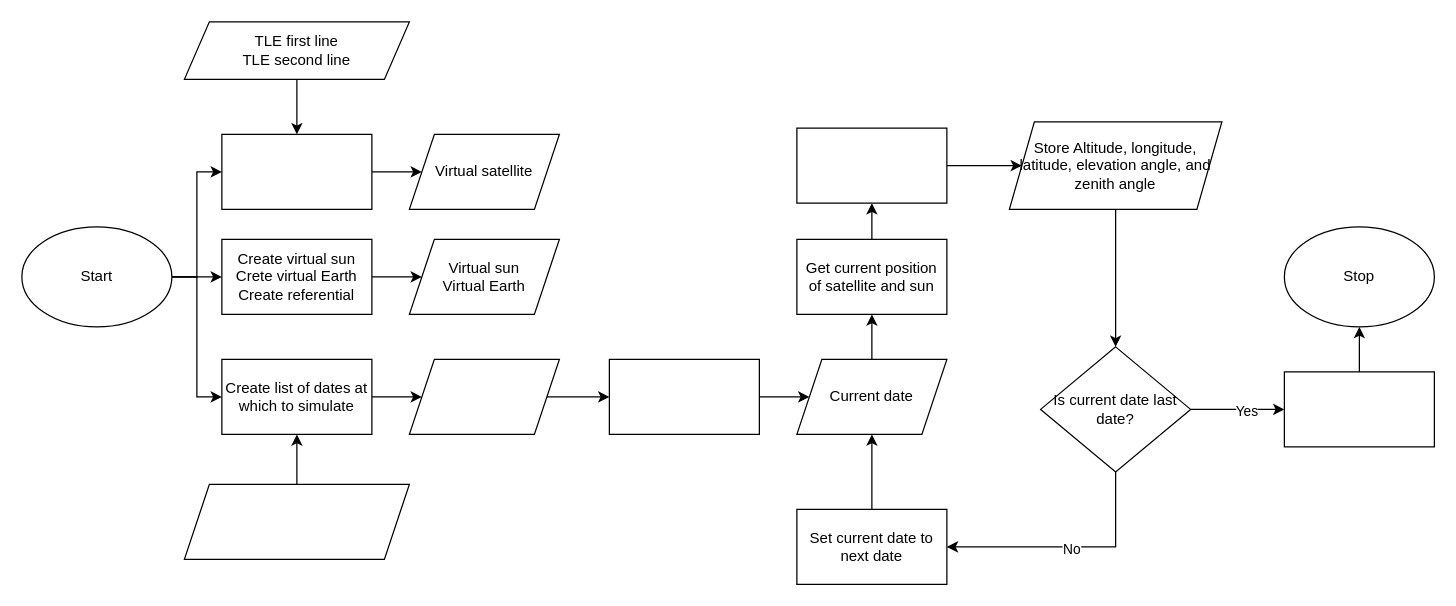
Image size: 1456x606. Some labels were removed from this diagram. The shapes that lost their labels are listed below. From the top down, each one's box as (x1, y1, x2, y2) in pixels, then its label:
(221, 133, 372, 209): Create virtual satellite
(796, 127, 947, 203): Propagate the position to the new position
(408, 358, 559, 434): List of dates
(608, 358, 759, 434): Set current date to first propagation date
(1283, 371, 1434, 447): Return simulated positions
(183, 483, 409, 559): Start time of extrapolation End time of extrapolation Rate of extrapolation
